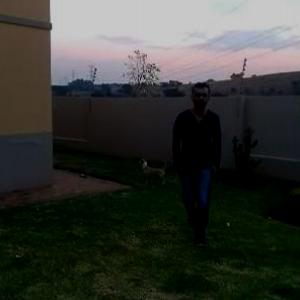follow: (169, 79, 220, 233)
